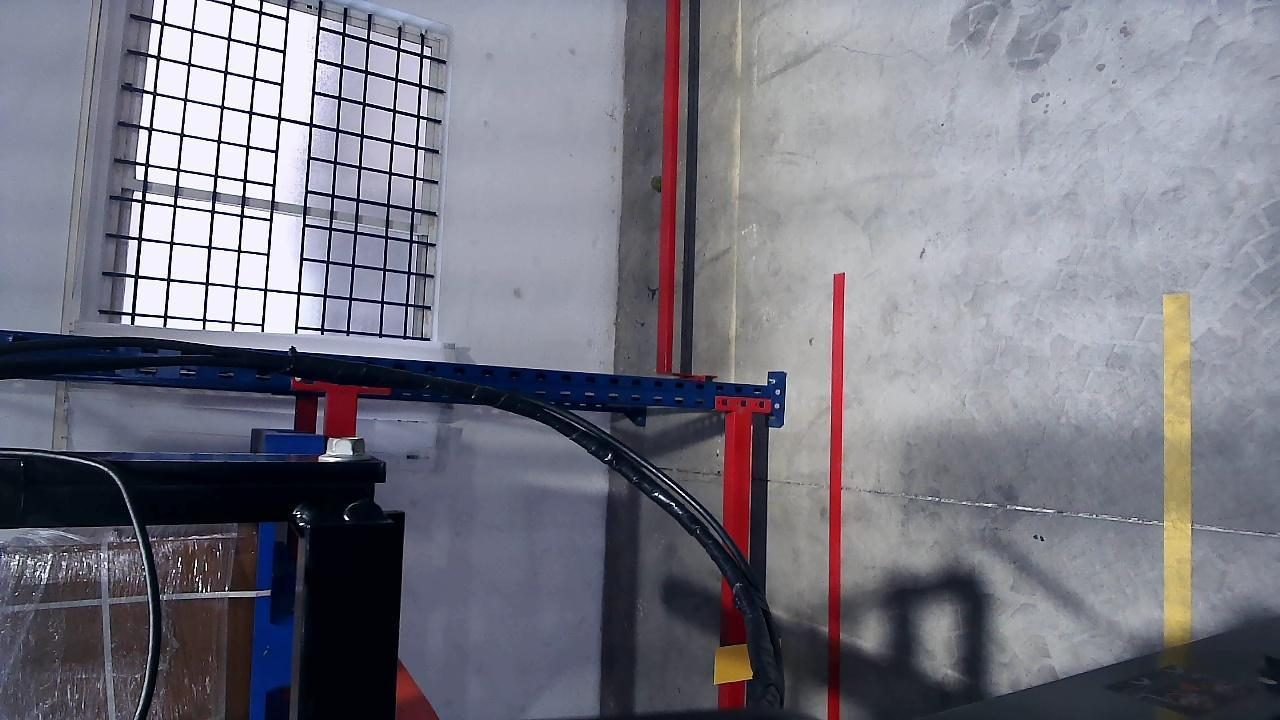red_line: (826, 274, 844, 720)
yellow_line: (1162, 293, 1193, 642)
